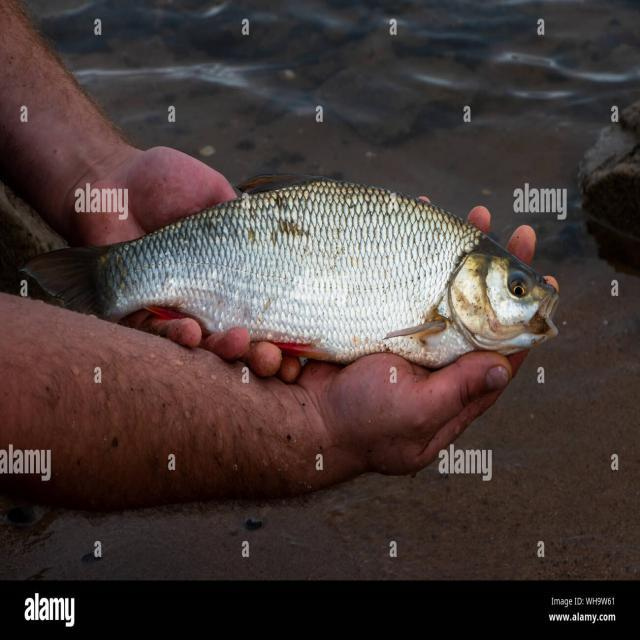EUS Disease: (20, 175, 566, 370), (191, 186, 535, 365)
